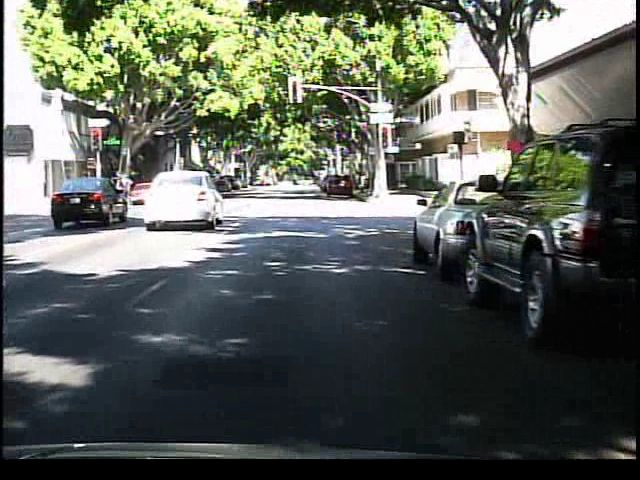person: (115, 162, 141, 203)
